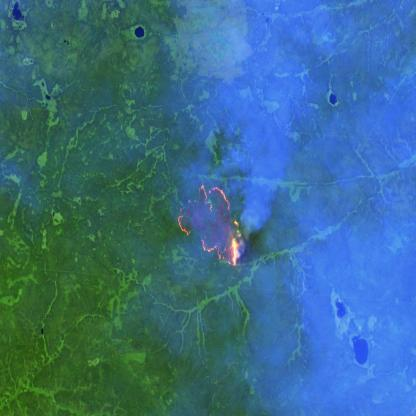fire: (176, 182, 244, 271)
